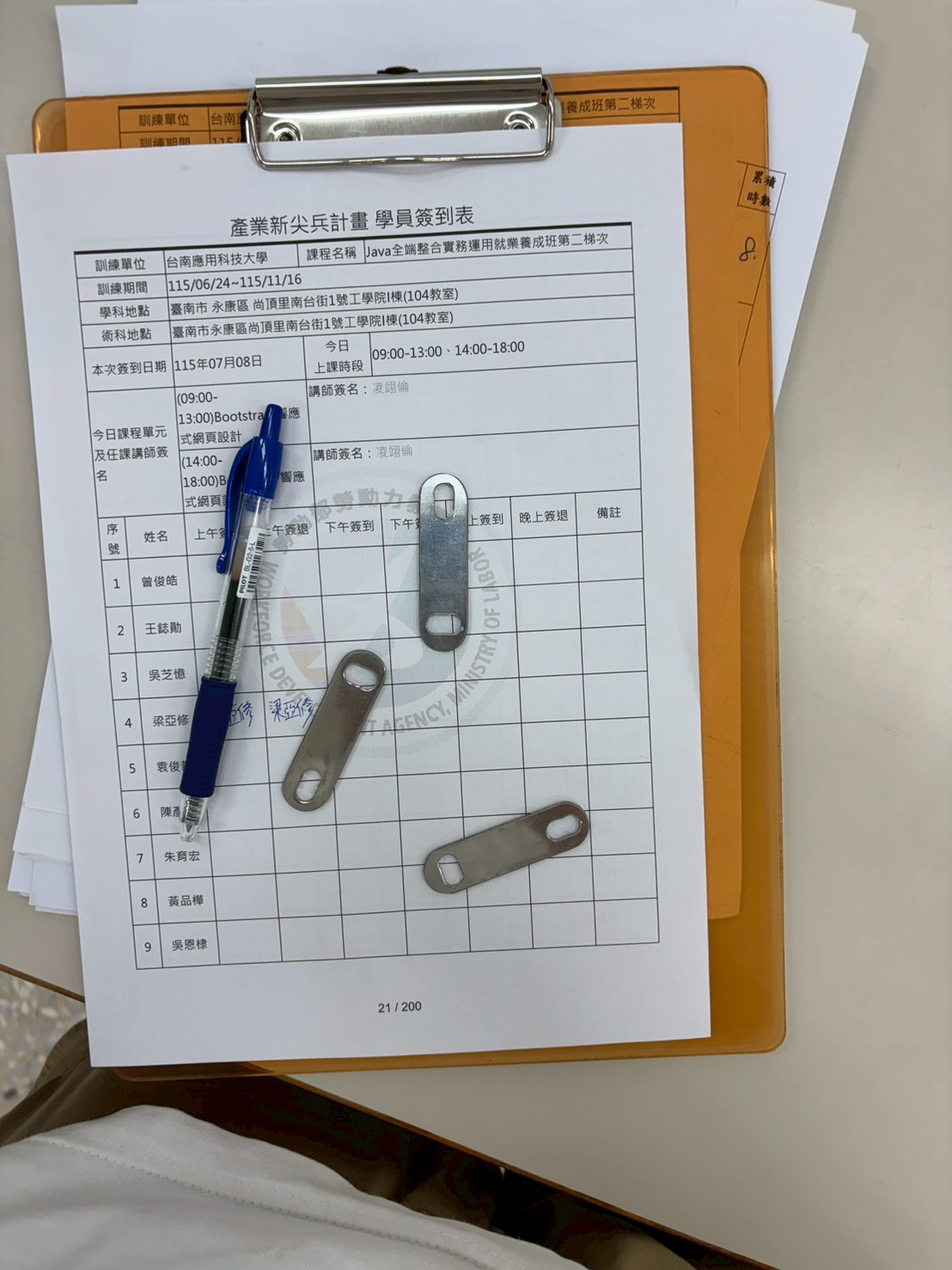Fe: (279, 650, 389, 809), (424, 800, 590, 895), (414, 473, 473, 656)
